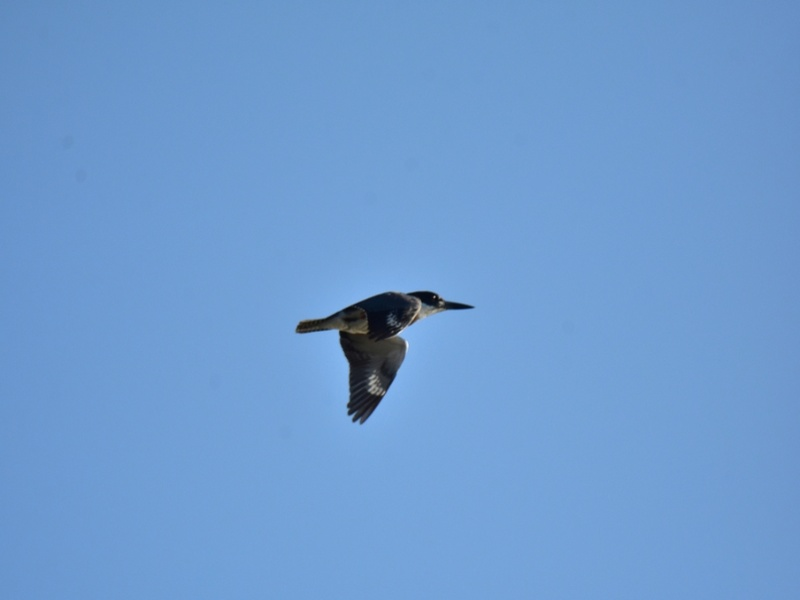kingfisher: (290, 287, 479, 431)
